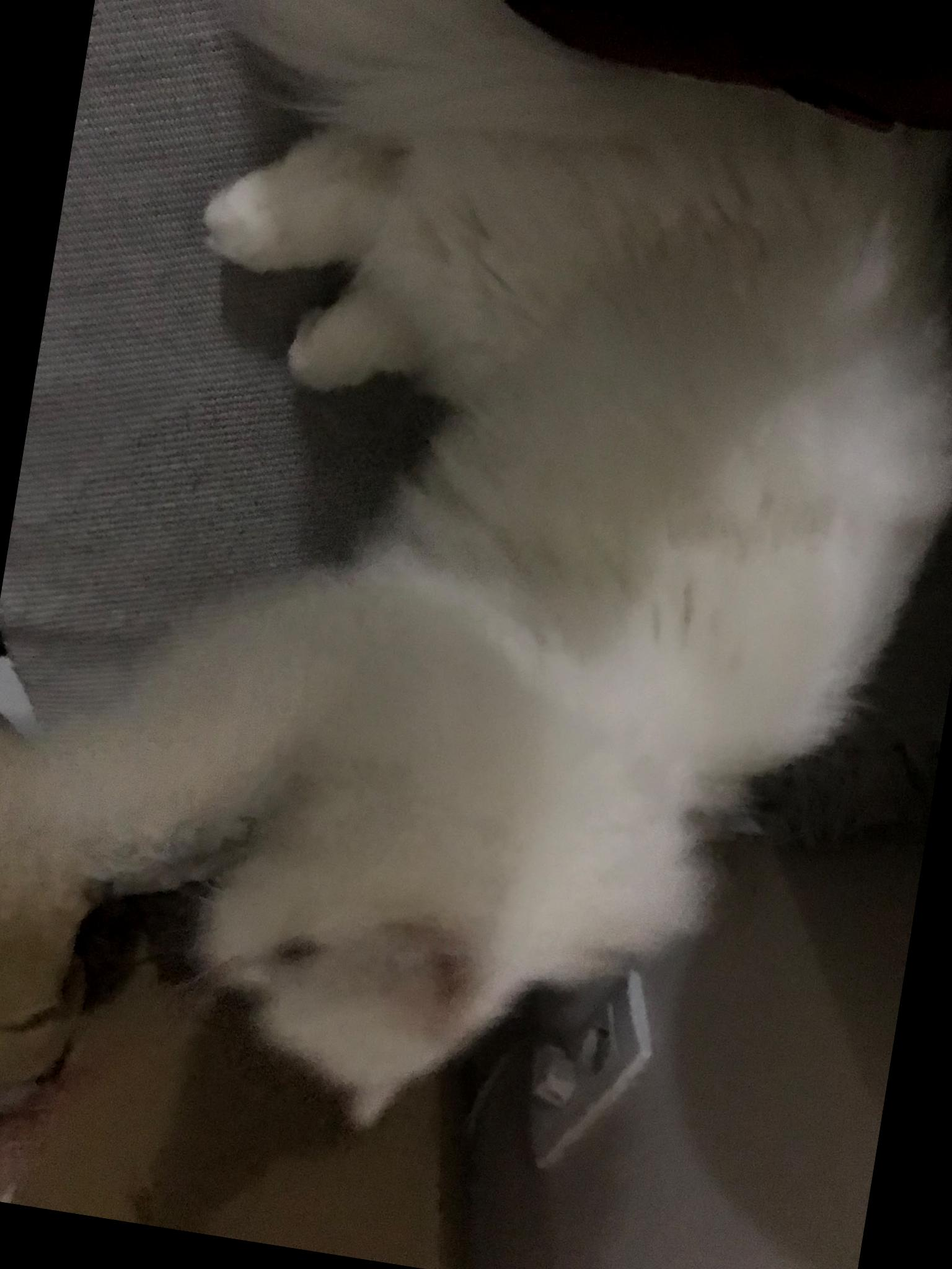macka: (6, 0, 952, 1208)
